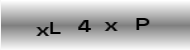4: (76, 18, 92, 32)
L: (49, 21, 61, 35)
P: (134, 16, 150, 30)
x: (103, 21, 119, 32), (35, 25, 49, 37)
